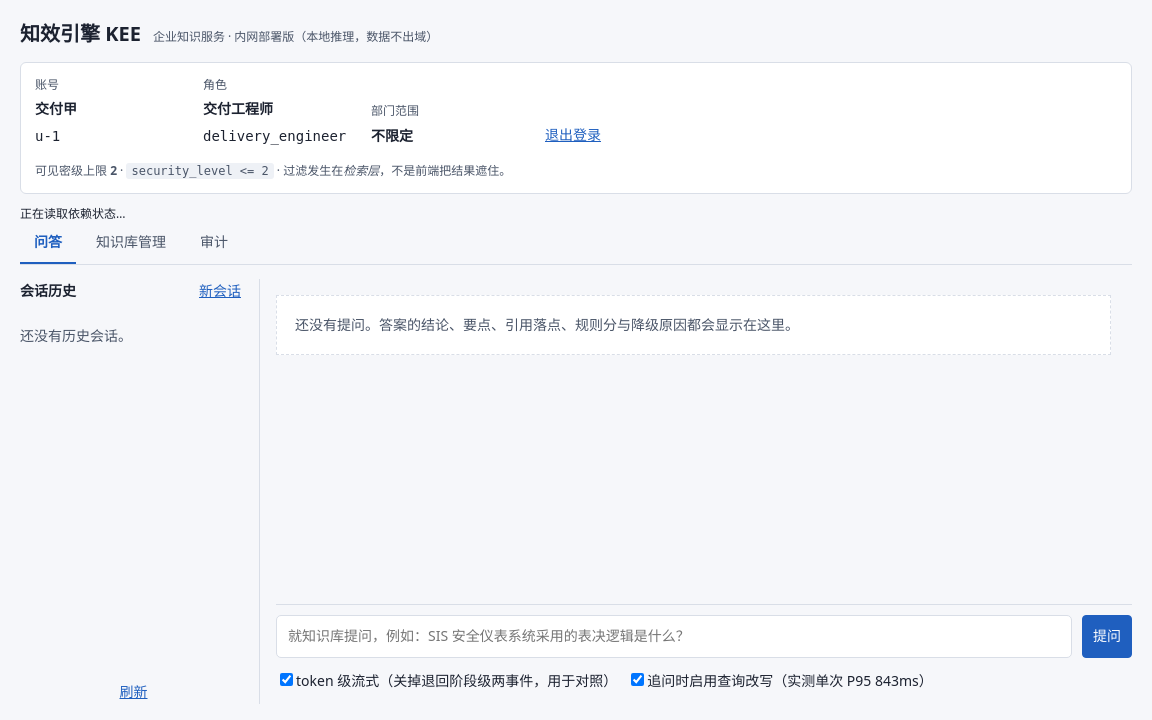
Scenario: 问答记录住在哪一层 › 切到别的模块再切回来，刚才那一问一答还在
Expected: the tab "问答" is shown, [20,223,76,264]
Type "SIS 表决逻辑是什么？" into the search field named "问题". click: coordinates (674, 636)
box: [276,615,1072,658]
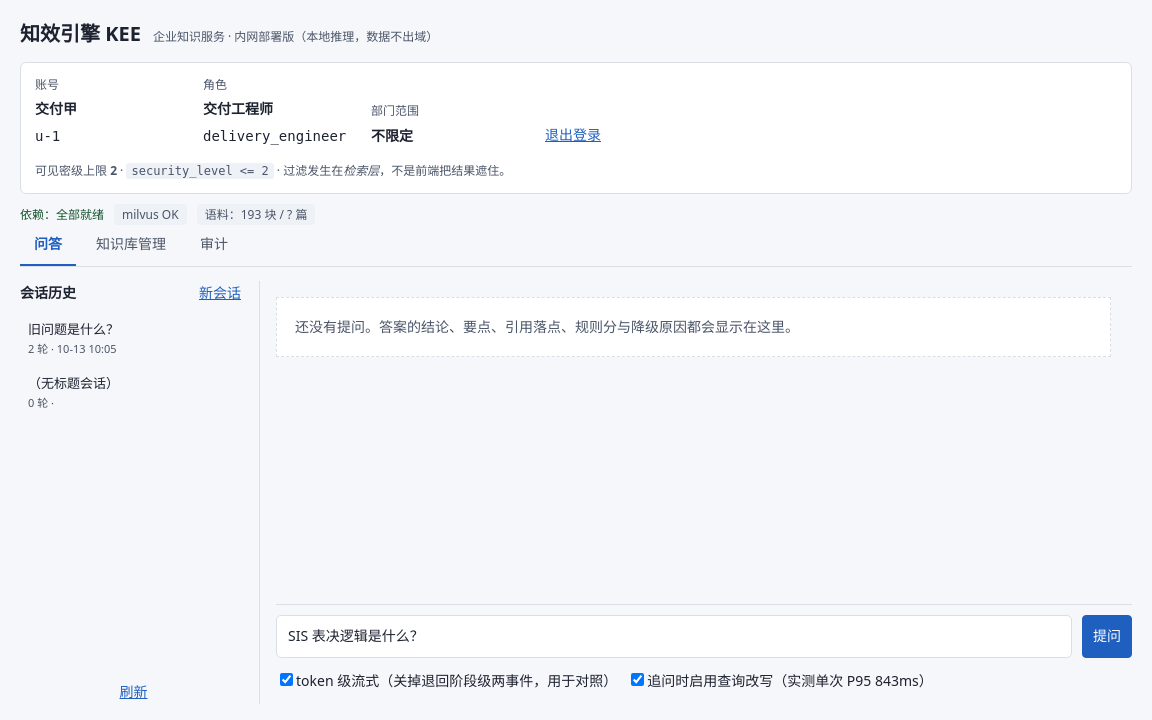
Click the button "提问". click: coordinates (1107, 636)
box: [1082,615,1132,658]
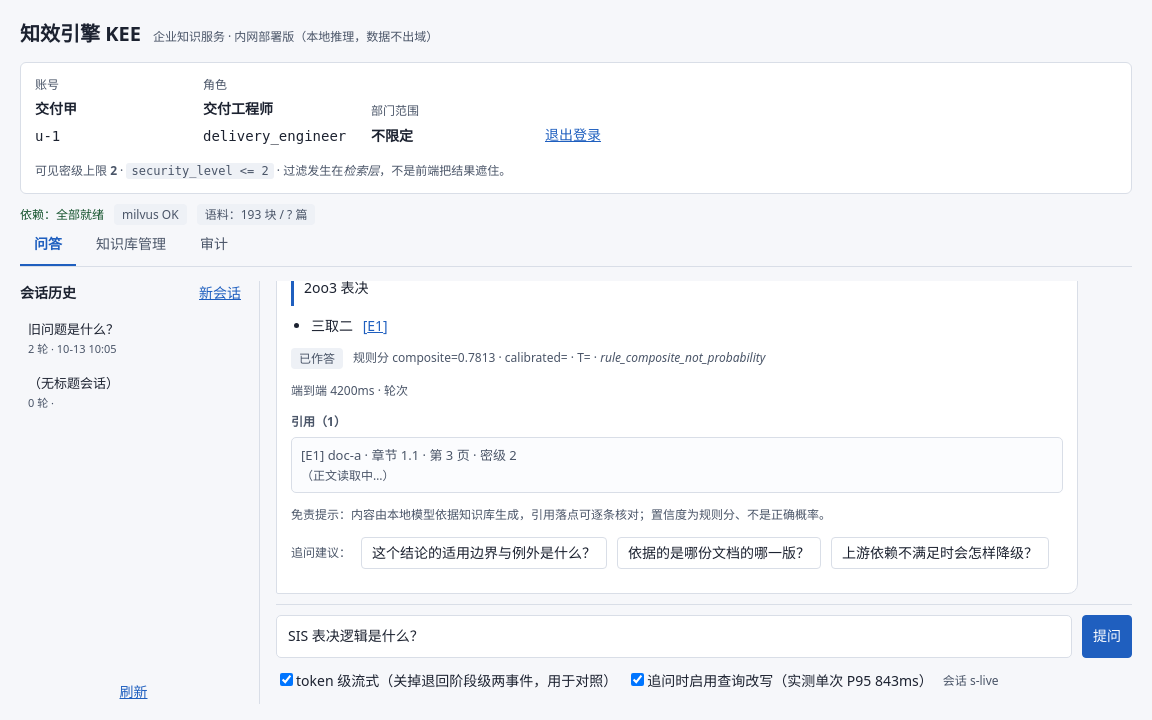
Result: the text with test id "conclusion-final" reads "2oo3 表决" at [304,281,369,297]
Click the tab "知识库管理". click: coordinates (131, 246)
box: [82,225,180,266]
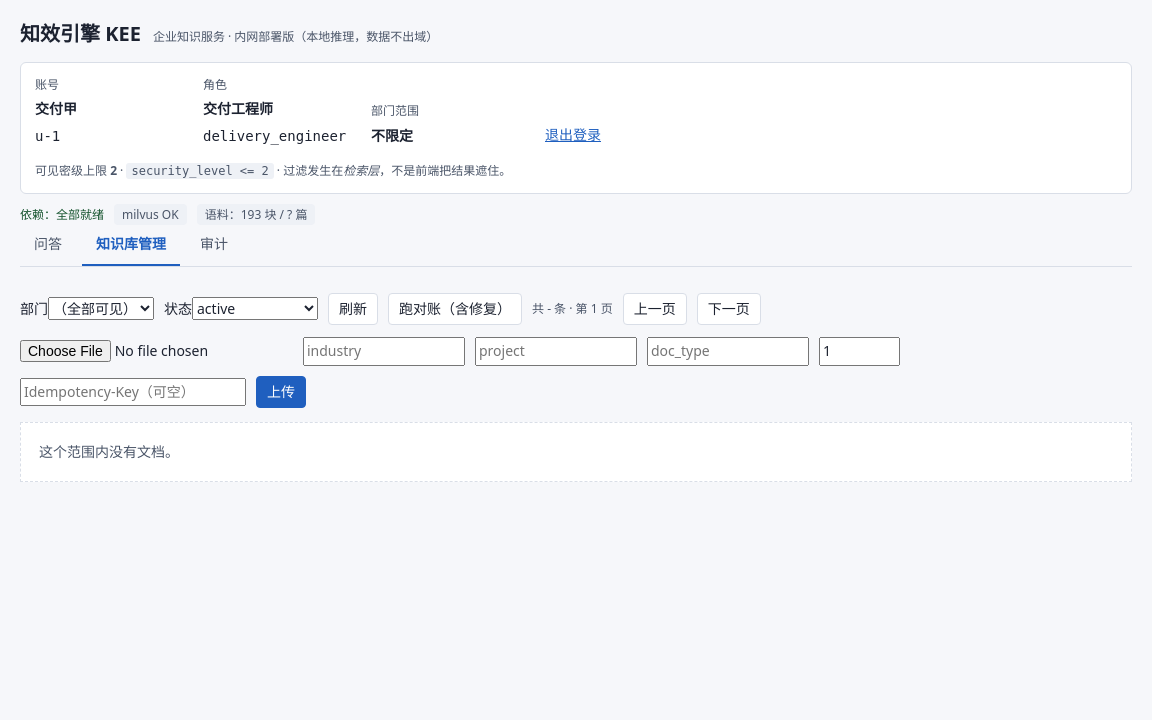
Click the tab "问答". click: coordinates (48, 246)
box: [20,225,76,266]
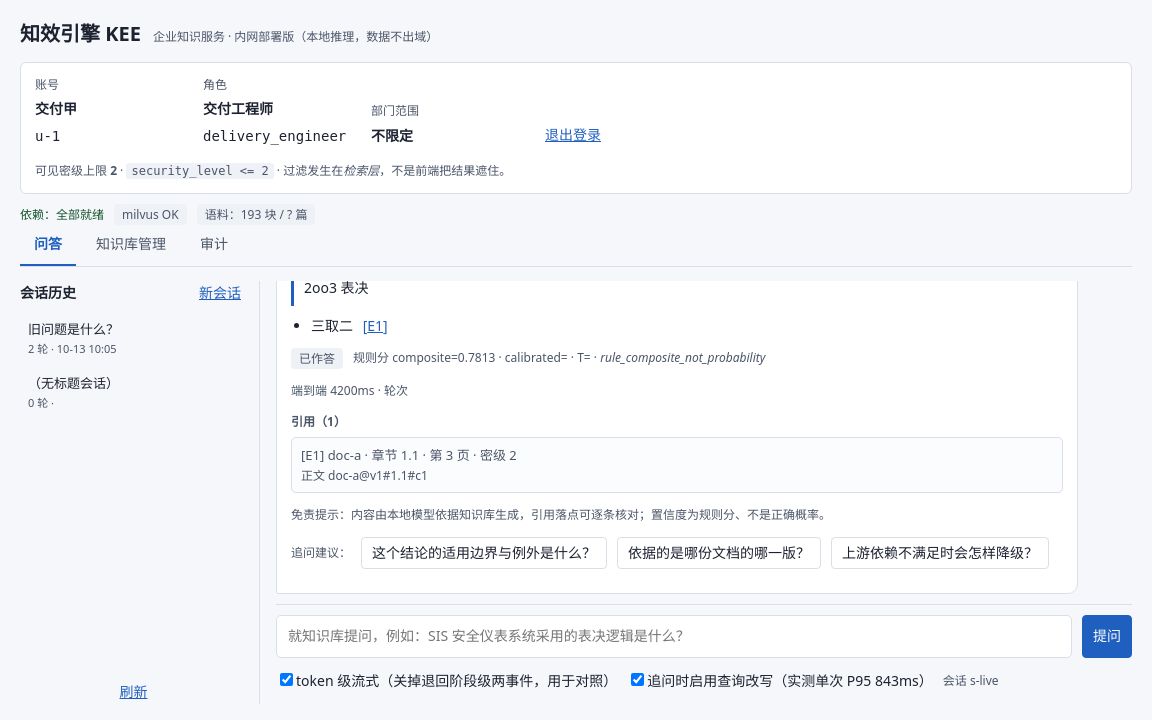
Result: the text with test id "conclusion-final" reads "2oo3 表决" at [304,281,369,297]
Result: the number of elements with test id "turn" is 1 at [276,281,1111,594]
